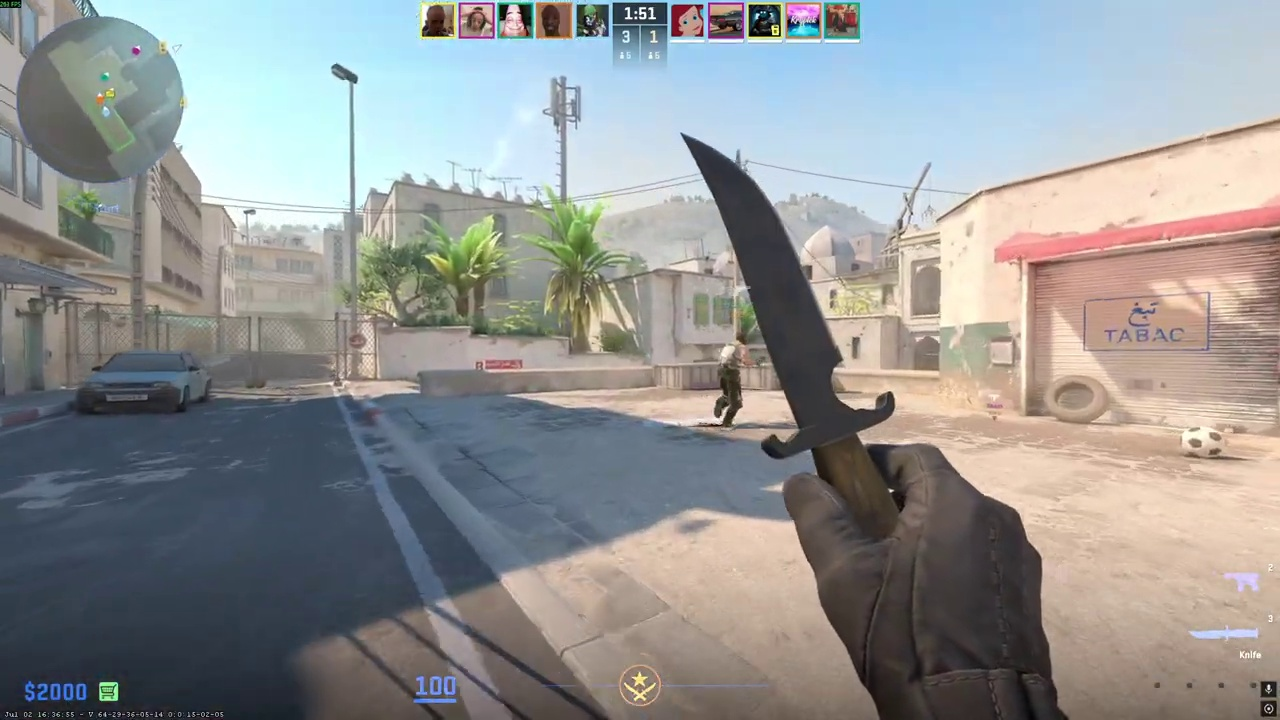Terrorist: (714, 332, 750, 427)
